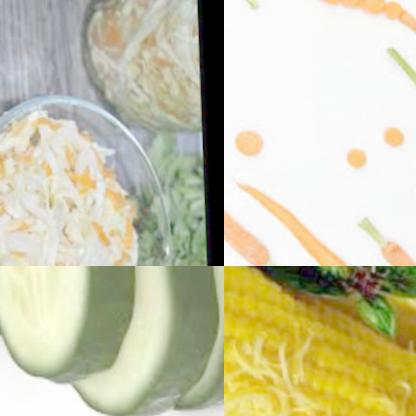cabbage: (0, 107, 154, 266), (81, 0, 200, 141)
carrot: (226, 174, 381, 266), (224, 178, 284, 266), (247, 0, 416, 31), (358, 223, 416, 266), (224, 121, 268, 159), (333, 137, 369, 169), (65, 162, 101, 192), (84, 211, 112, 249), (377, 118, 405, 151), (121, 213, 140, 256), (106, 182, 130, 209), (29, 114, 61, 131)
corn: (224, 266, 416, 416)
cucumber: (0, 266, 224, 416)
